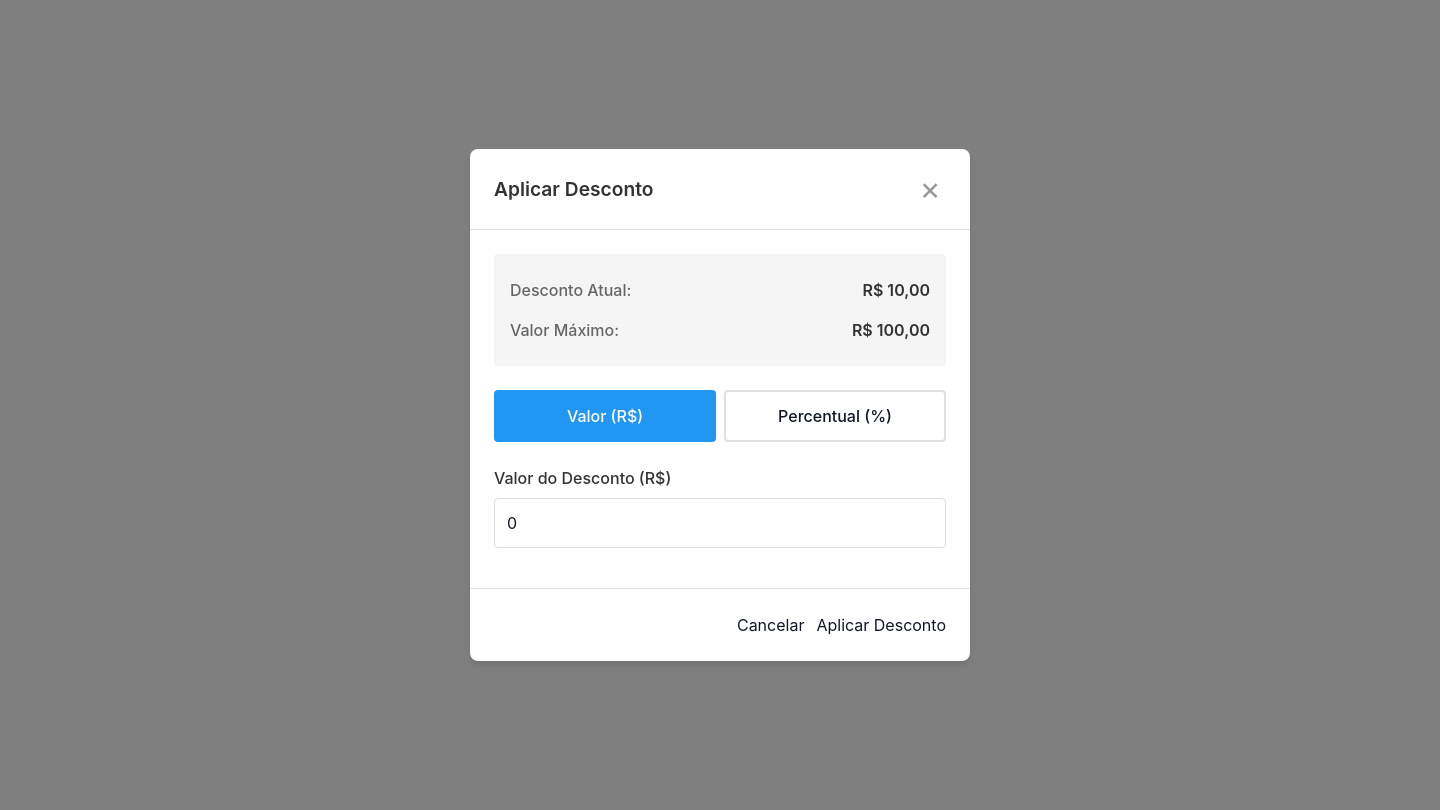
Test: POSDiscountModal › Discount Calculation - Percentage Type › should calculate correct discount for 50%
This screenshot has width=1440, height=810.
Click the button with class "type-button" showing "Percentual (%)": (835, 416) [724,390,946,442]
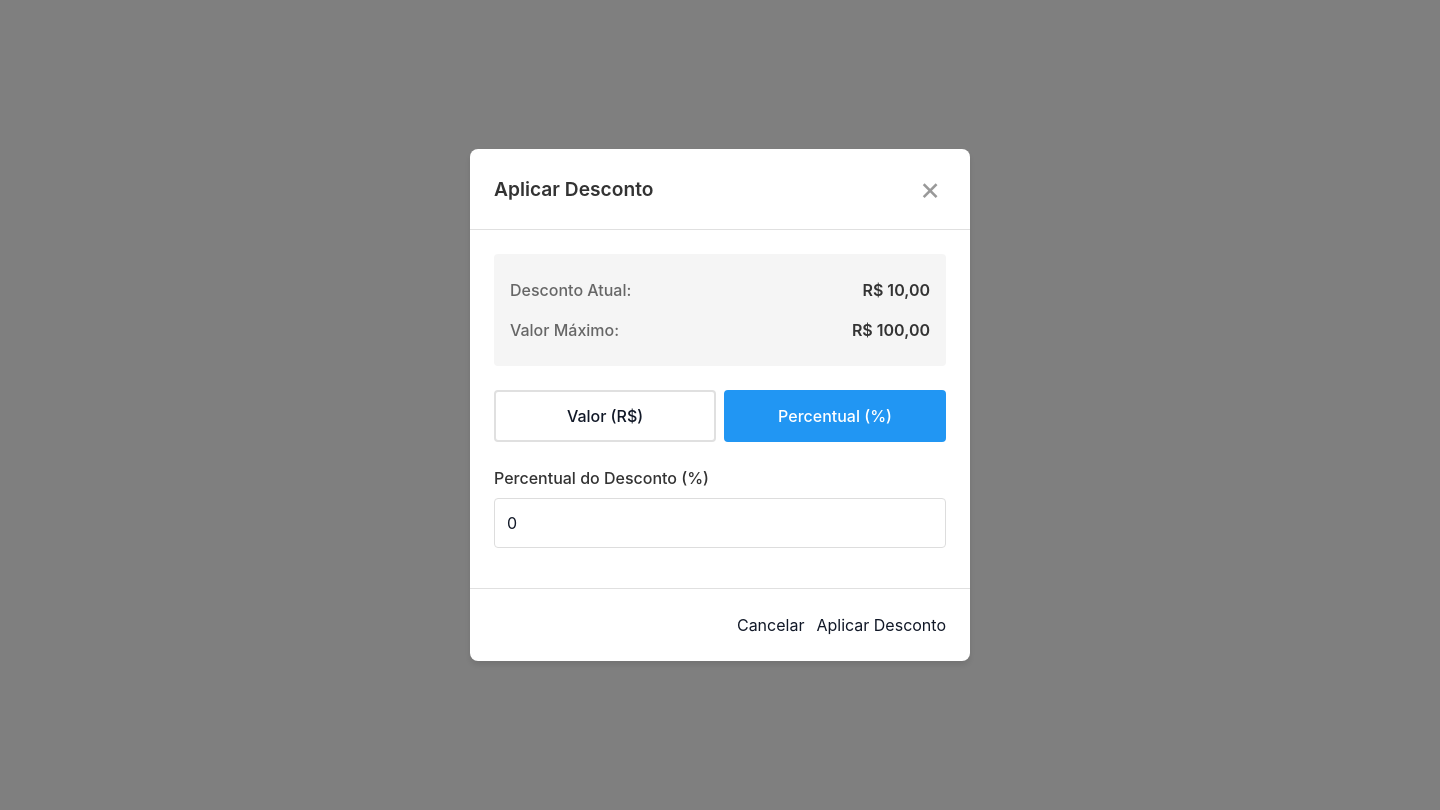
In the number field with id "discount-input": (720, 523) [494,498,946,548], type "50"
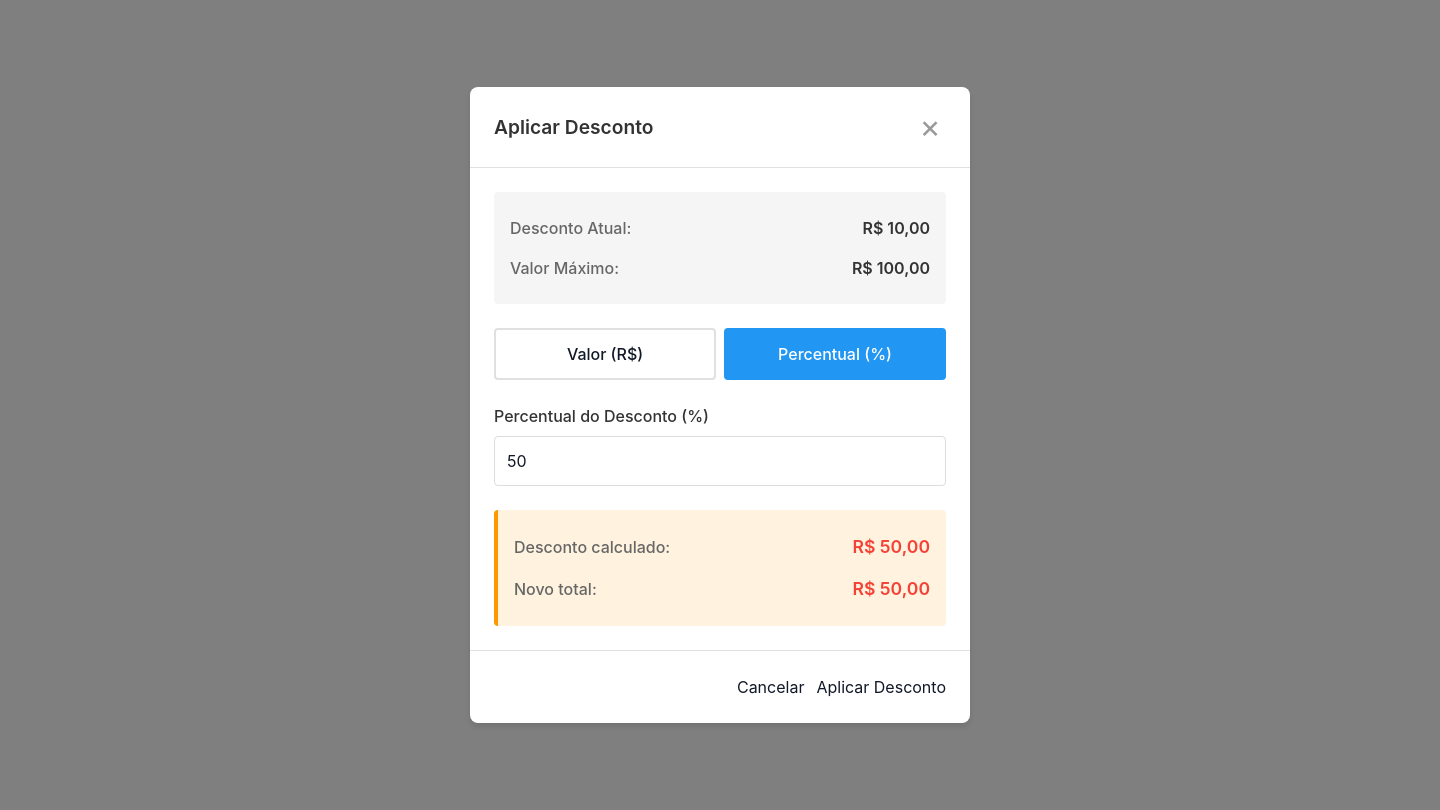
Expected: the text "50,00" is shown, [852,536,930,557]
Expected: the text "Novo total:" is shown, [514,577,597,601]
